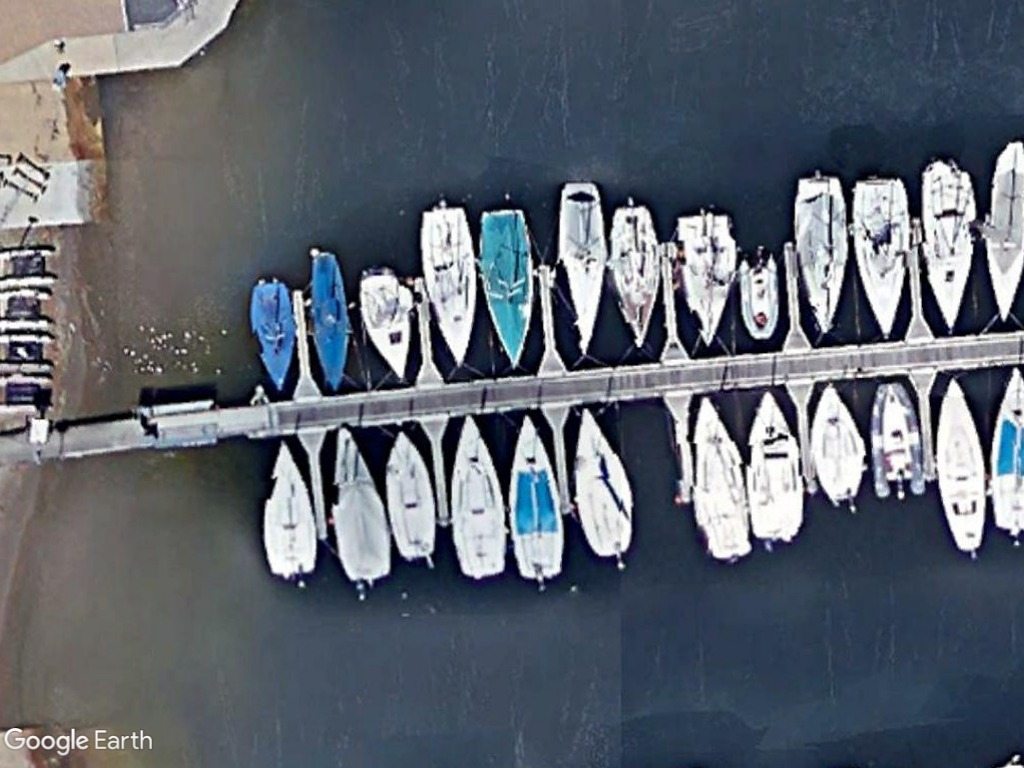boat: (916, 155, 988, 337), (683, 391, 756, 563), (496, 411, 567, 584), (567, 406, 640, 563), (848, 165, 913, 341), (739, 387, 808, 549), (326, 424, 394, 587), (933, 368, 989, 560), (447, 411, 509, 584), (788, 167, 848, 341), (419, 198, 477, 378), (556, 174, 610, 364), (476, 197, 533, 373), (258, 439, 317, 584), (803, 384, 869, 512), (679, 203, 735, 353), (380, 424, 440, 564), (612, 197, 663, 356), (866, 378, 928, 507), (358, 260, 419, 387), (304, 241, 353, 394), (245, 273, 296, 396), (737, 244, 782, 344)
